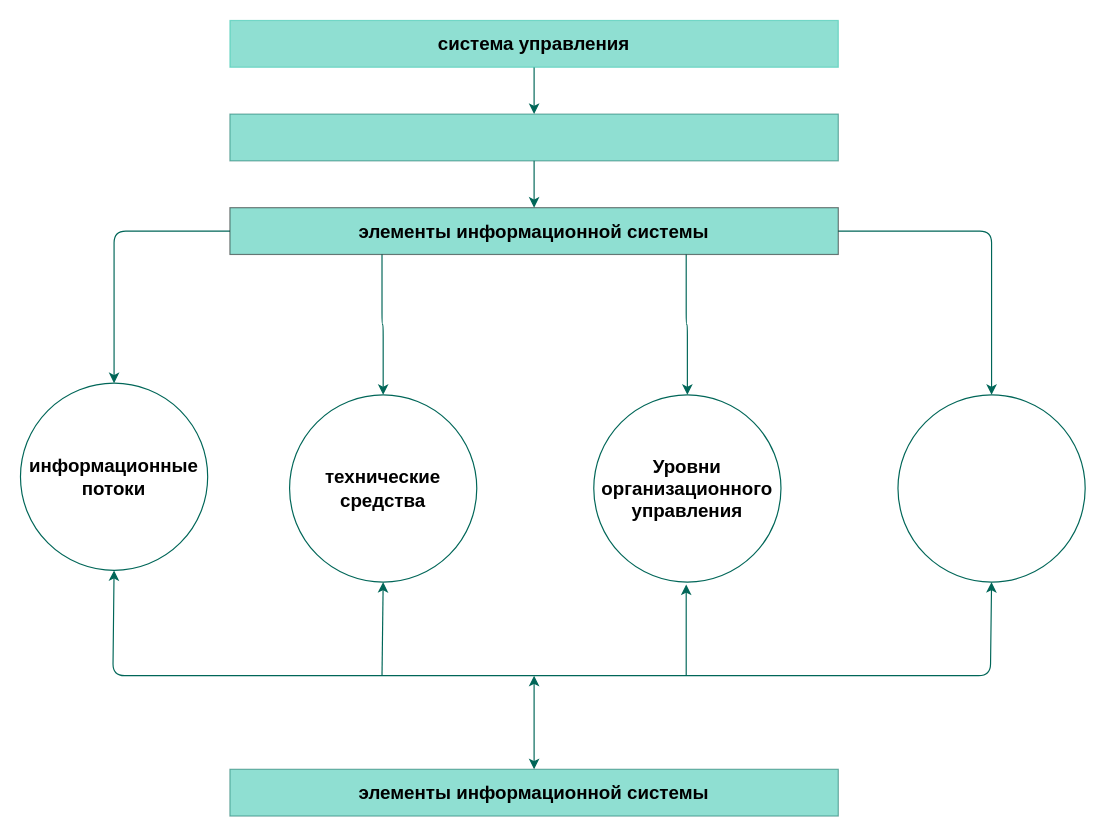
This 1106x837 diagram has some shape labels left out. The centre of each missing label's shape, as x and y in pixels:
"информационная система" belongs at point (533, 137).
"Кадровые ресурсы" belongs at point (991, 488).
